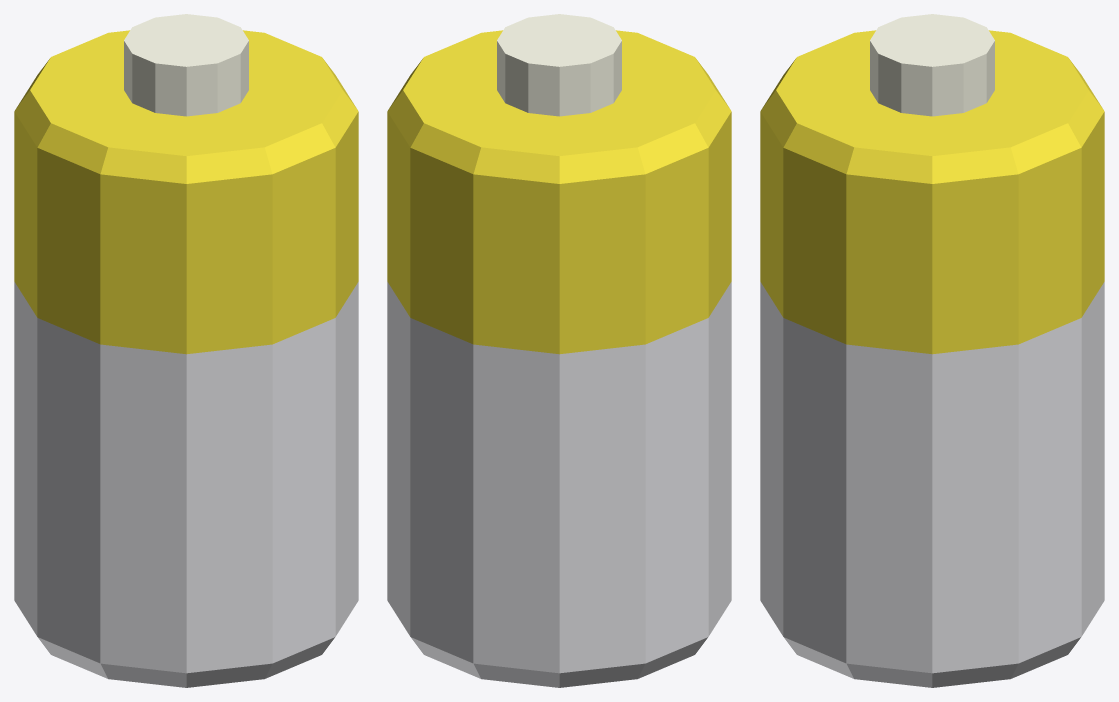
File: Waste_Battery.fbx
3 renders of one model, left to right at view 1: azimuth 30°, elevation 25°; view 2: azimuth 150°, elevation 25°; view 3: azimuth 270°, elevation 25°, orthographic.
Visible parts, largest first — view 1: Waste_Battery; view 2: Waste_Battery; view 3: Waste_Battery.
Boxes of the visible parts, x1,y1,x2,y2 form: Waste_Battery: (14, 14, 358, 687); Waste_Battery: (387, 14, 731, 687); Waste_Battery: (760, 14, 1104, 687).
Size of the model in its own units: 0.22 by 0.41 by 0.22.
